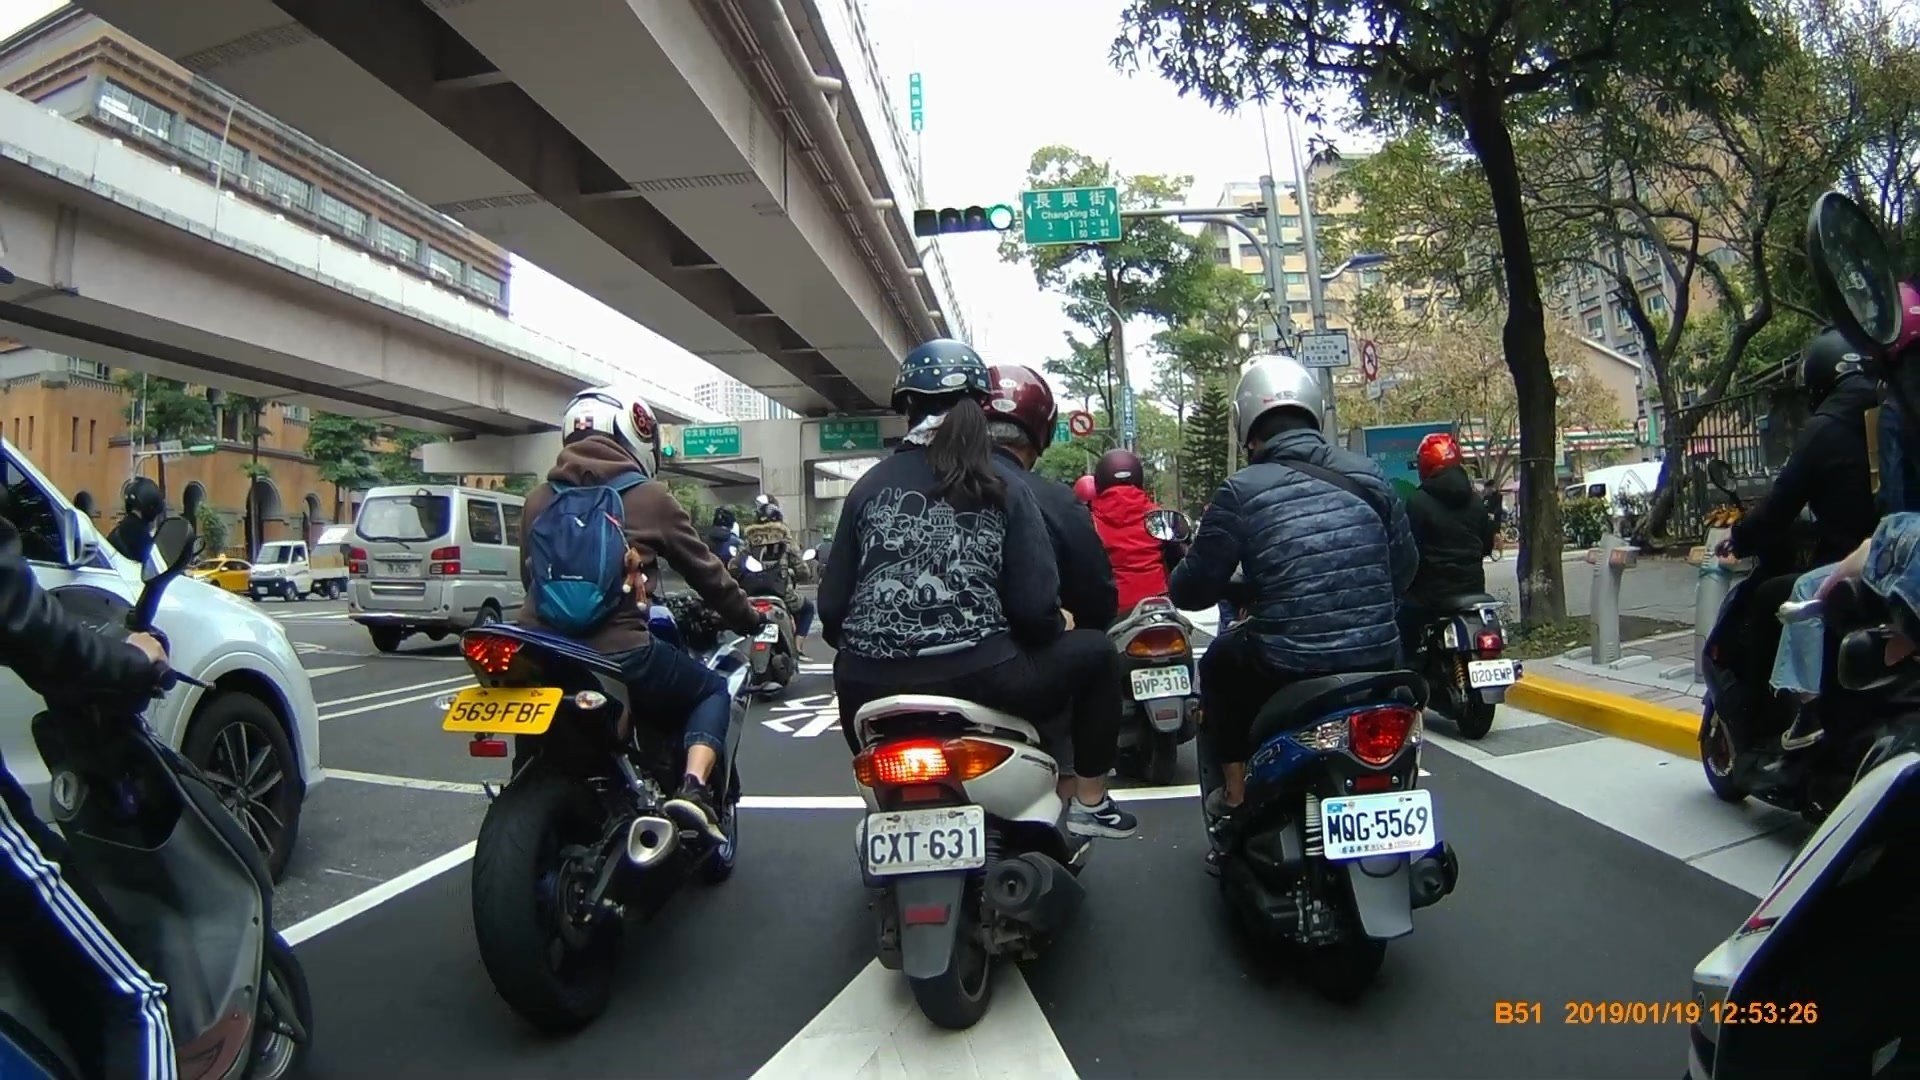License_plate: (862, 806, 989, 873), (1323, 791, 1439, 851), (444, 689, 558, 734)
